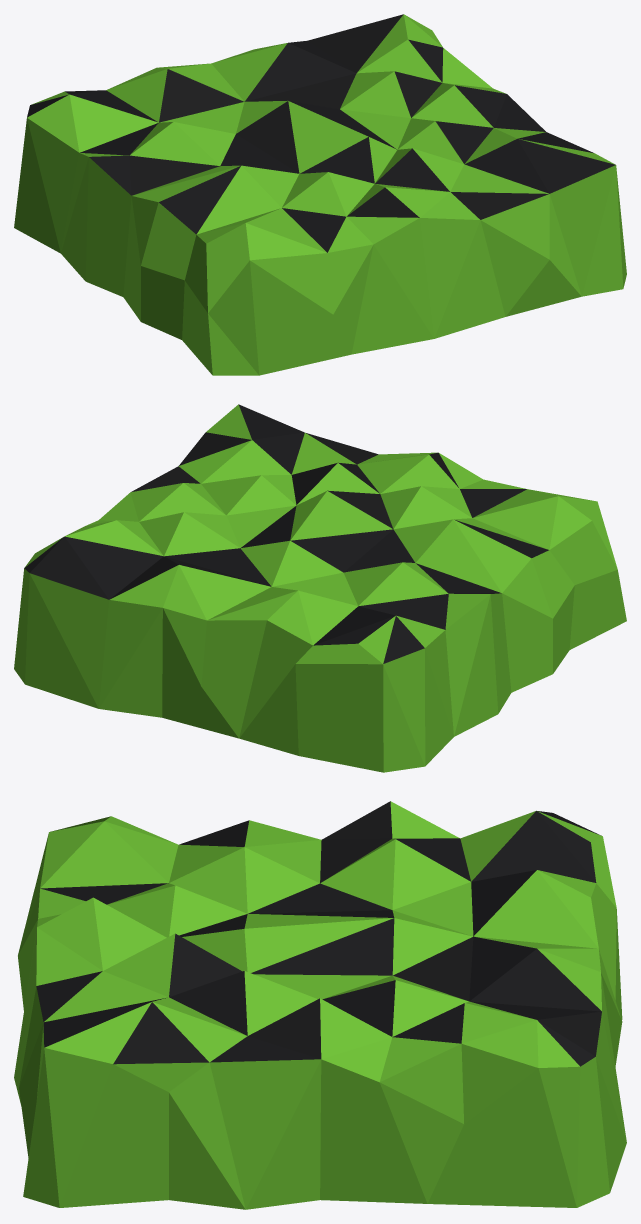
Rendered from grass_field.fbx.
3 renders of one model, top to bottom at view 1: azimuth 30°, elevation 25°; view 2: azimuth 150°, elevation 25°; view 3: azimuth 270°, elevation 25°, orthographic. The views are drawn at different scales.
Parts seen in each view (by area): view 1: grass; view 2: grass; view 3: grass.
Boxes of the visible parts, left/top/right/bottom form: grass: left=14, top=14, right=626, bottom=375; grass: left=14, top=404, right=626, bottom=772; grass: left=14, top=801, right=626, bottom=1209.
Size of the model in its own units: 101 by 31.09 by 101.
